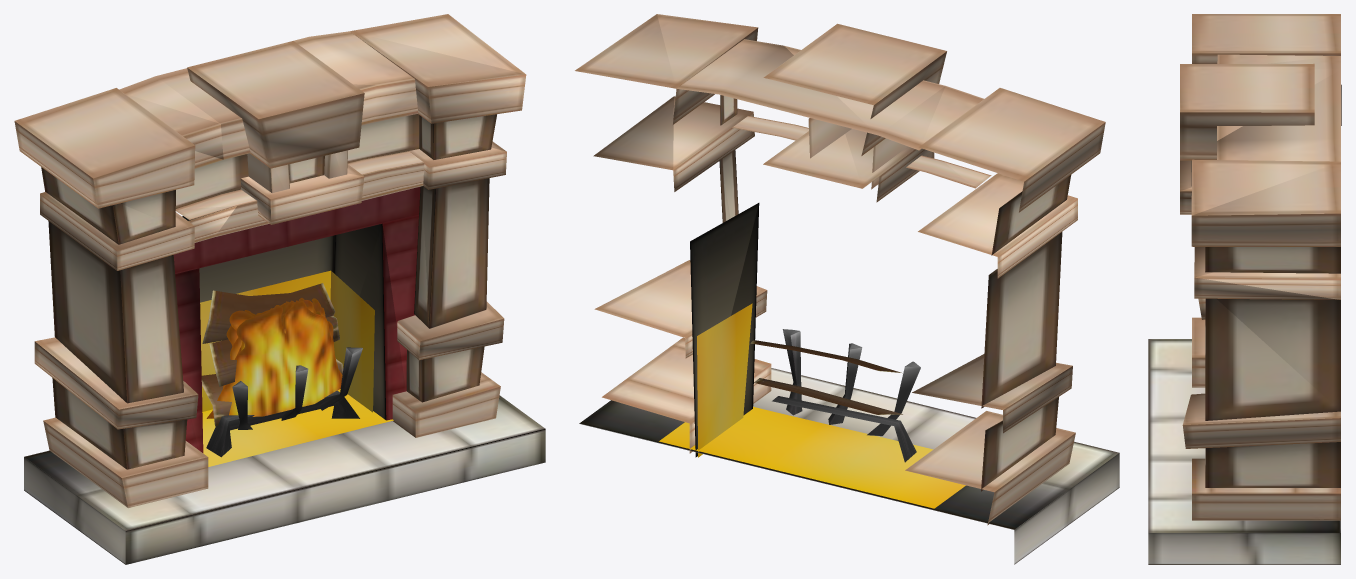
The model's file is tt_m_prp_int_fireplace_square.glb.
3 renders of one model, left to right at view 1: azimuth 30°, elevation 25°; view 2: azimuth 150°, elevation 25°; view 3: azimuth 270°, elevation 25°, orthographic. The views are drawn at different scales.
Visible parts, largest first — view 1: FireplaceSquare, fireGlow1, fire1; view 2: FireplaceSquare, fireGlow1; view 3: FireplaceSquare.
Part boxes in pixels (<box>): FireplaceSquare: <box>14,14,545,564</box>; fireGlow1: <box>200,270,393,466</box>; fire1: <box>210,300,341,418</box>; FireplaceSquare: <box>575,14,1119,564</box>; fireGlow1: <box>659,303,965,508</box>; FireplaceSquare: <box>1148,14,1341,564</box>.
Bounding box in the file's own units: 8.95 × 7.83 × 3.64.
Materials: 6 (6 with a texture image).
